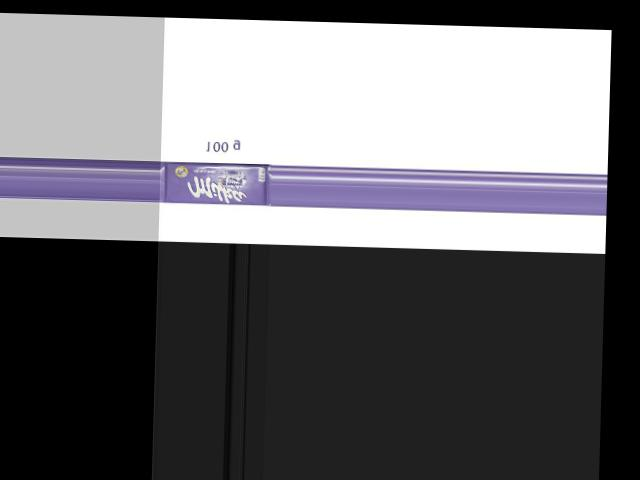chocolate: (162, 153, 273, 206)
